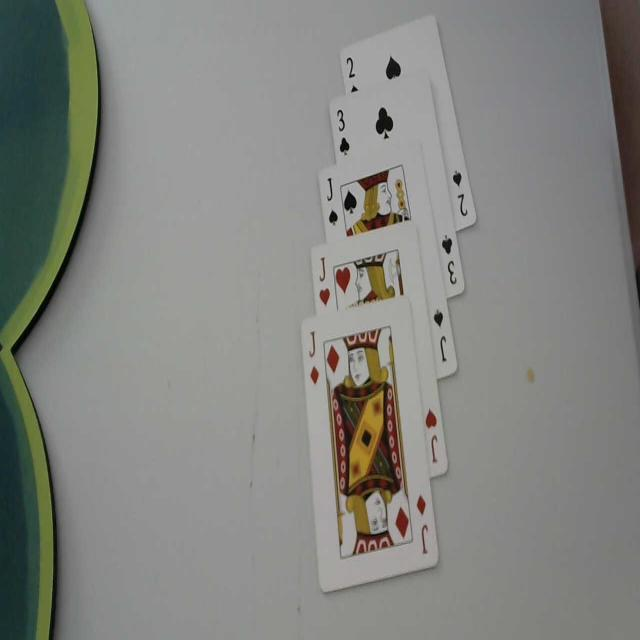2S: (452, 162, 476, 222)
3C: (438, 231, 458, 289), (334, 104, 352, 161)
JD: (414, 494, 432, 554), (308, 328, 320, 391)
JH: (423, 404, 441, 472), (314, 254, 332, 308)
JS: (432, 305, 449, 368), (324, 174, 340, 238)
